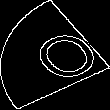O_SE: (12, 21, 98, 89)
